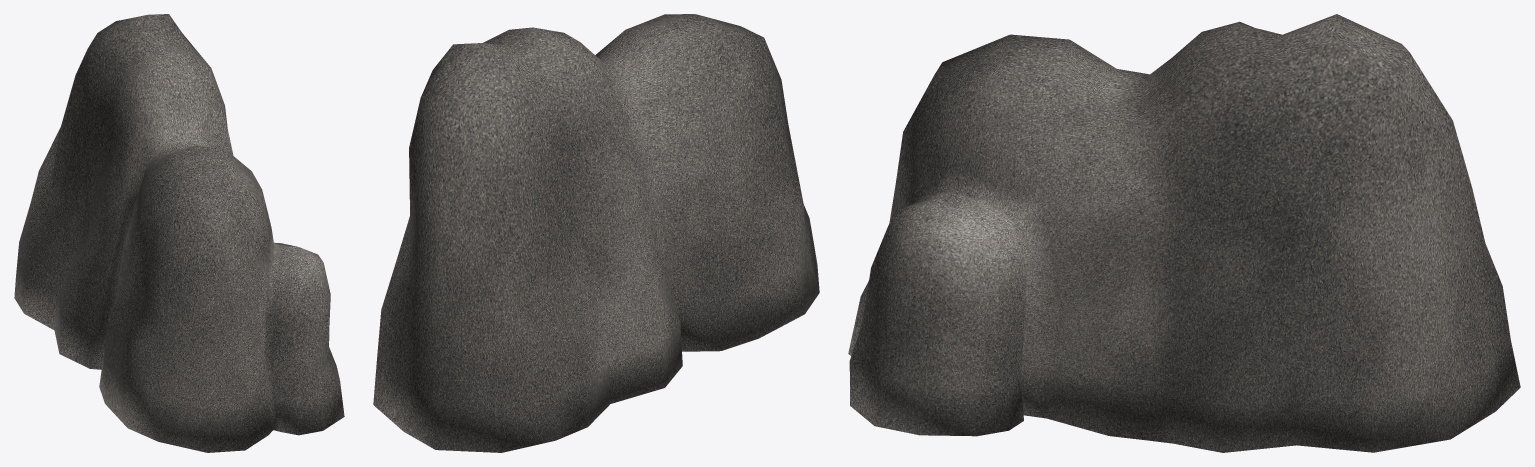
The model's file is iwa02.fbx.
3 renders of one model, left to right at view 1: azimuth 30°, elevation 25°; view 2: azimuth 150°, elevation 25°; view 3: azimuth 270°, elevation 25°, orthographic. The views are drawn at different scales.
Visible parts, largest first — view 1: iwa02; view 2: iwa02; view 3: iwa02.
Boxes of the visible parts, left/top/right/bottom form: iwa02: left=14, top=14, right=344, bottom=452; iwa02: left=373, top=14, right=819, bottom=452; iwa02: left=848, top=14, right=1520, bottom=452.
Bounding box in the file's own units: 23.24 × 29.36 × 46.12.
